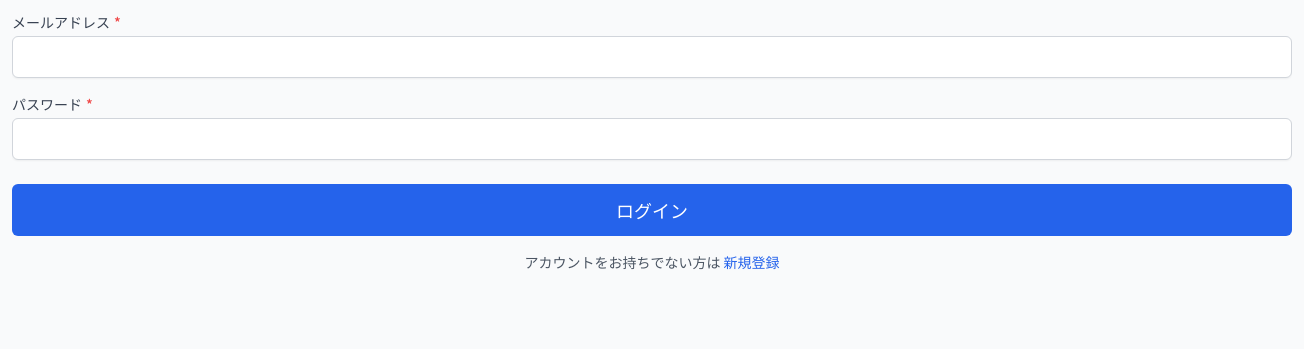
it: LoginForm › アカウントロック（429）のとき適切なエラーメッセージが表示される（Requirement 2.3）
Type "locked@example.com" into the field labelled "メールアドレス*" at (652, 57), box x1=12 y1=36 x2=1292 y2=78
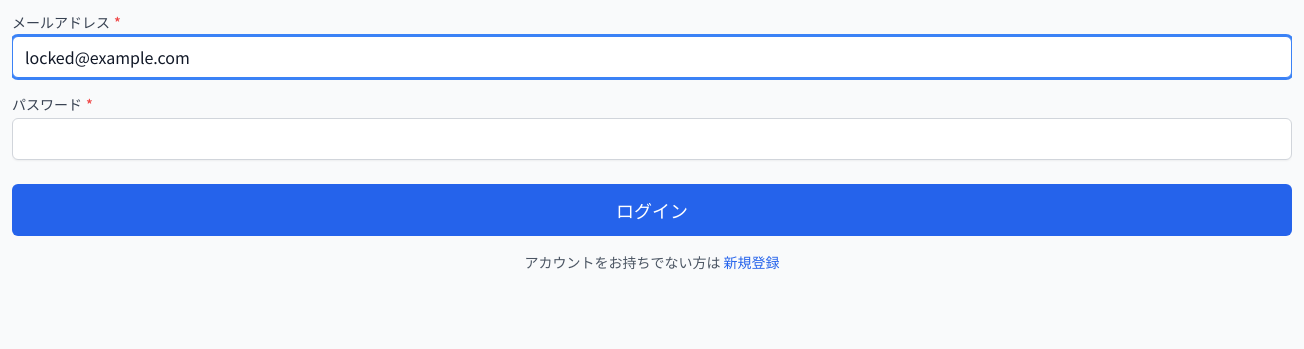
Type "password123" into the password field labelled "パスワード*" at (652, 139), box x1=12 y1=118 x2=1292 y2=160
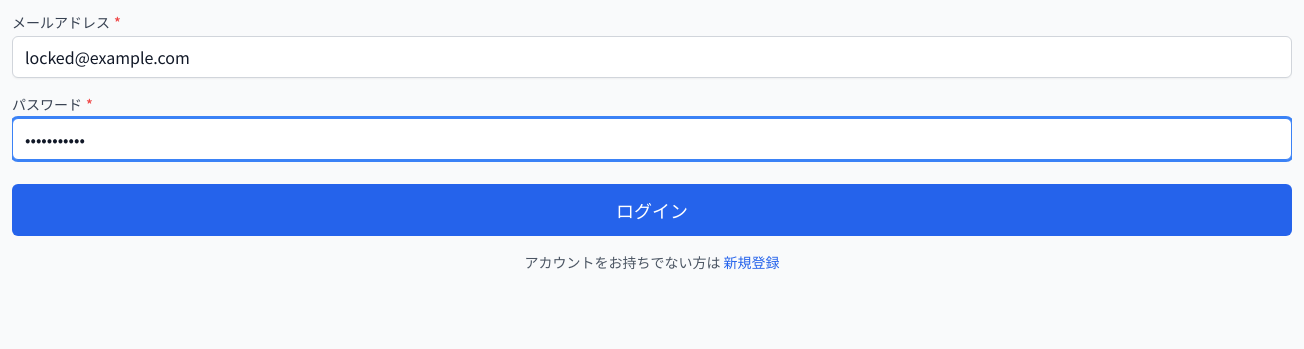
Click the button "ログイン" at (652, 210), box x1=12 y1=184 x2=1292 y2=236
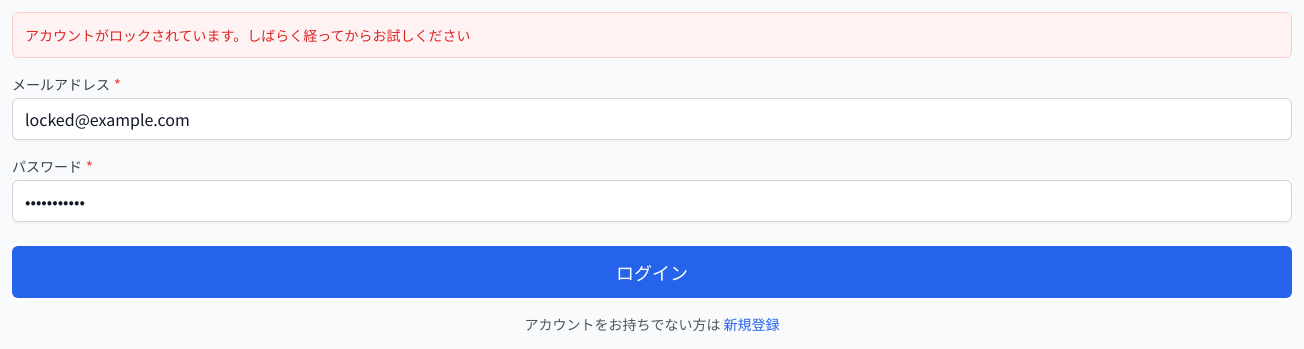
Check: the text "アカウントがロックされています。しばらく経ってからお試しください" is shown, box x1=12 y1=12 x2=1292 y2=58
